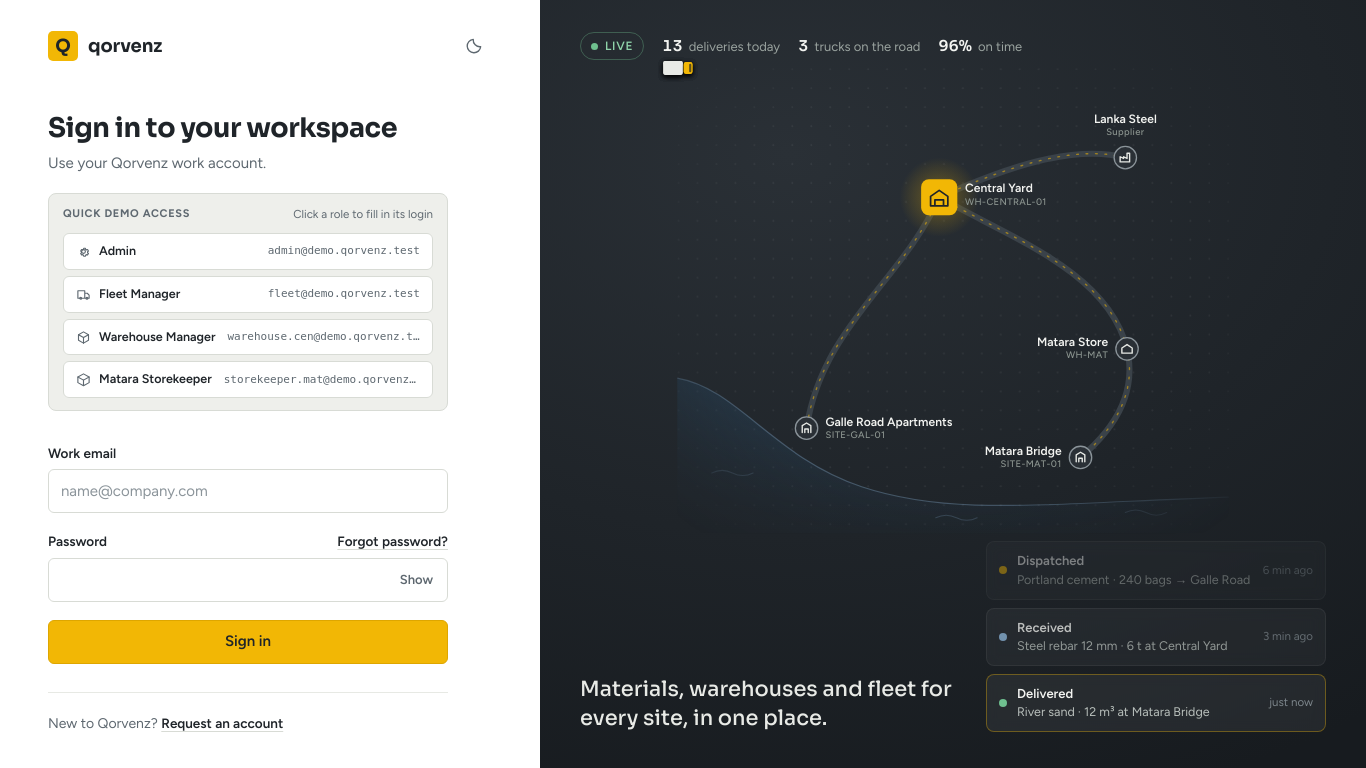
Scenario: login › blocks duplicate submissions while loading
Expected: the heading "Sign in to your workspace" is shown, [48,112,448,144]
In the field labelled "Work email": (248,491) [48,469,448,513], type "member@example.com"
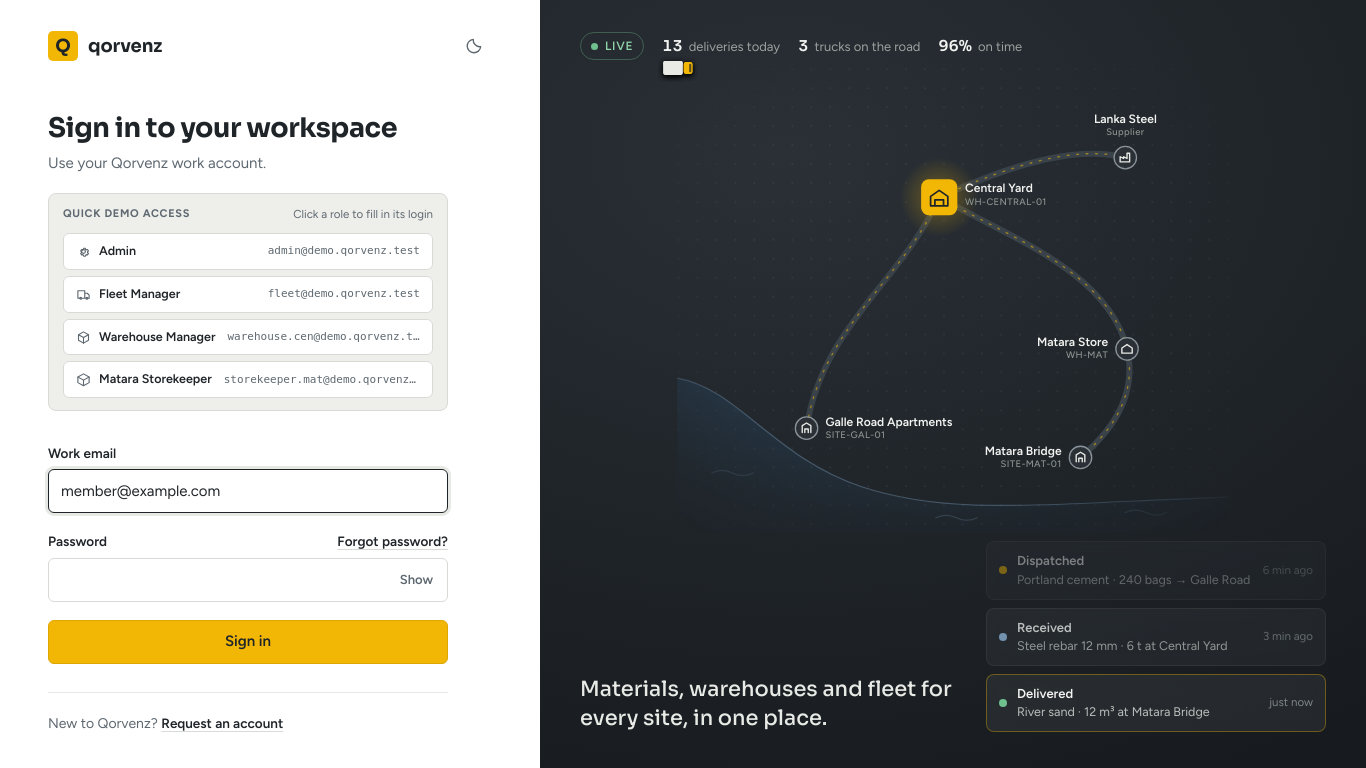
In the password field labelled "Password": (225,580) [61,559,390,601], type "entered-secret"
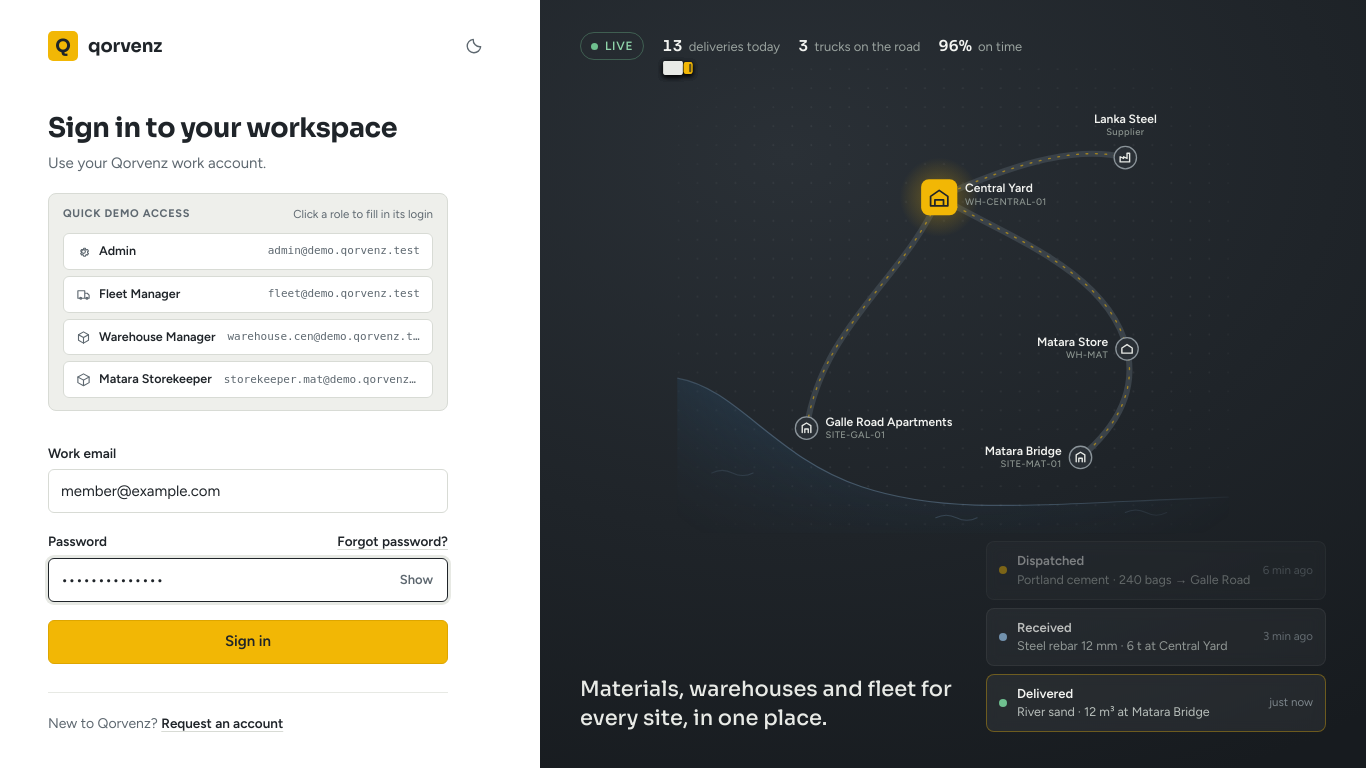
Submit the form "Sign in", box [48,443,448,664]
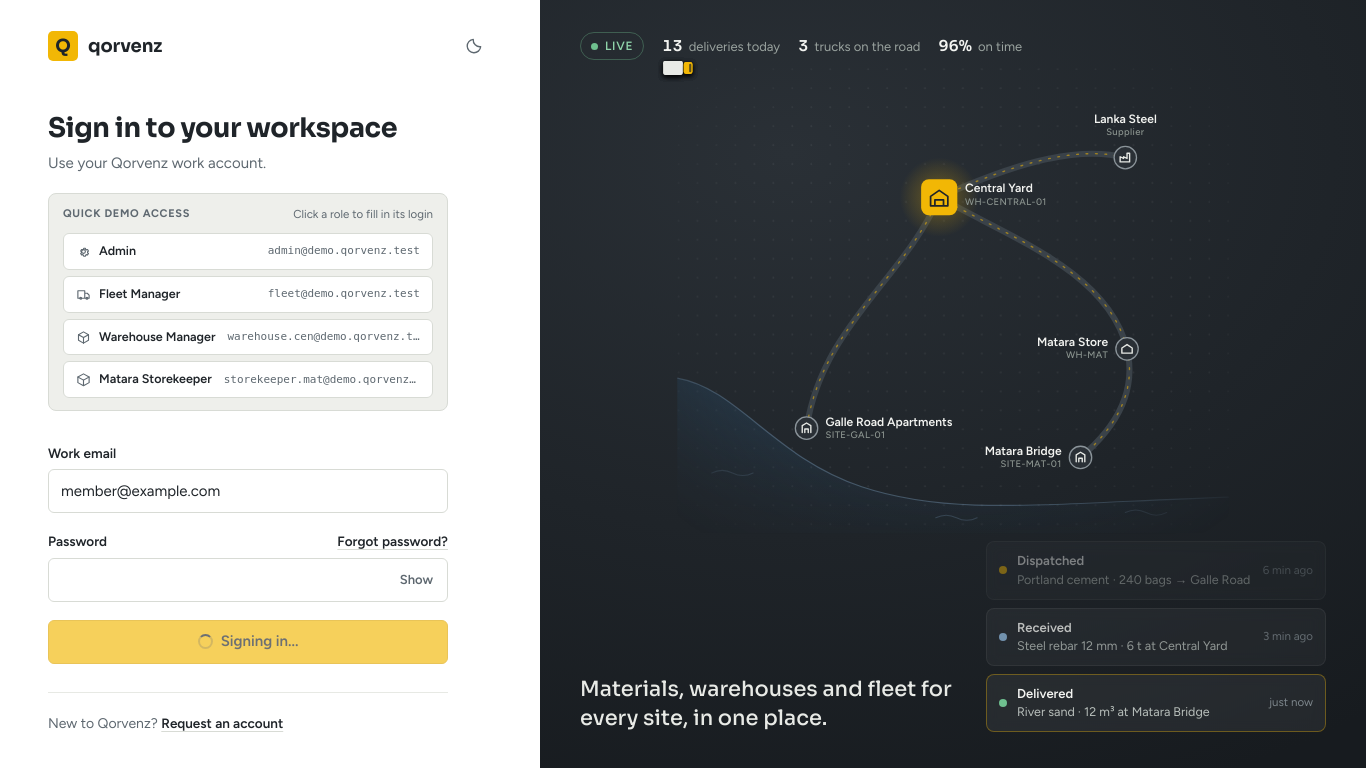
Now the button "Signing in..." is disabled, box [48,620,448,664]
Now the password field labelled "Password" is empty, box [61,559,390,601]
Submit the form named "Sign in", box [48,443,448,664]
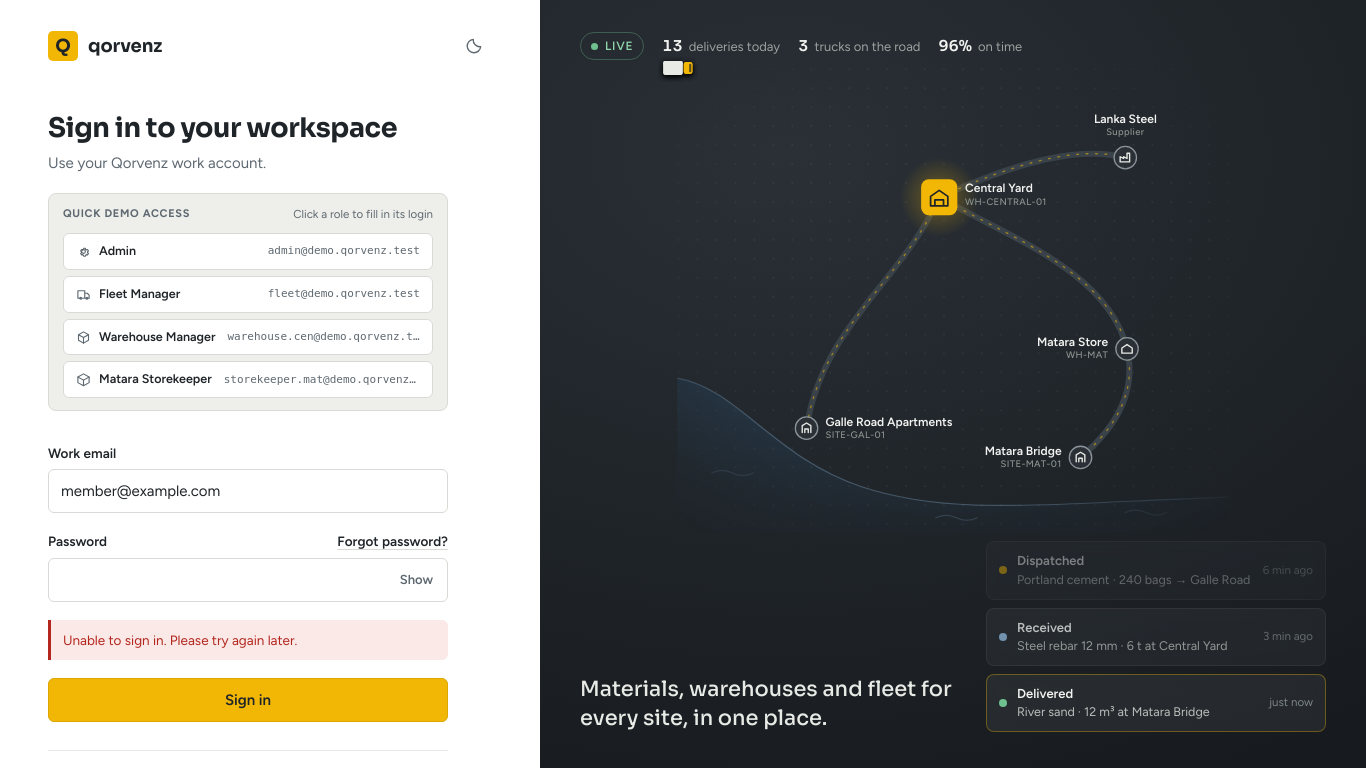
Now the message "Unable to sign in. Please try again later." is shown, box [48,620,448,660]
